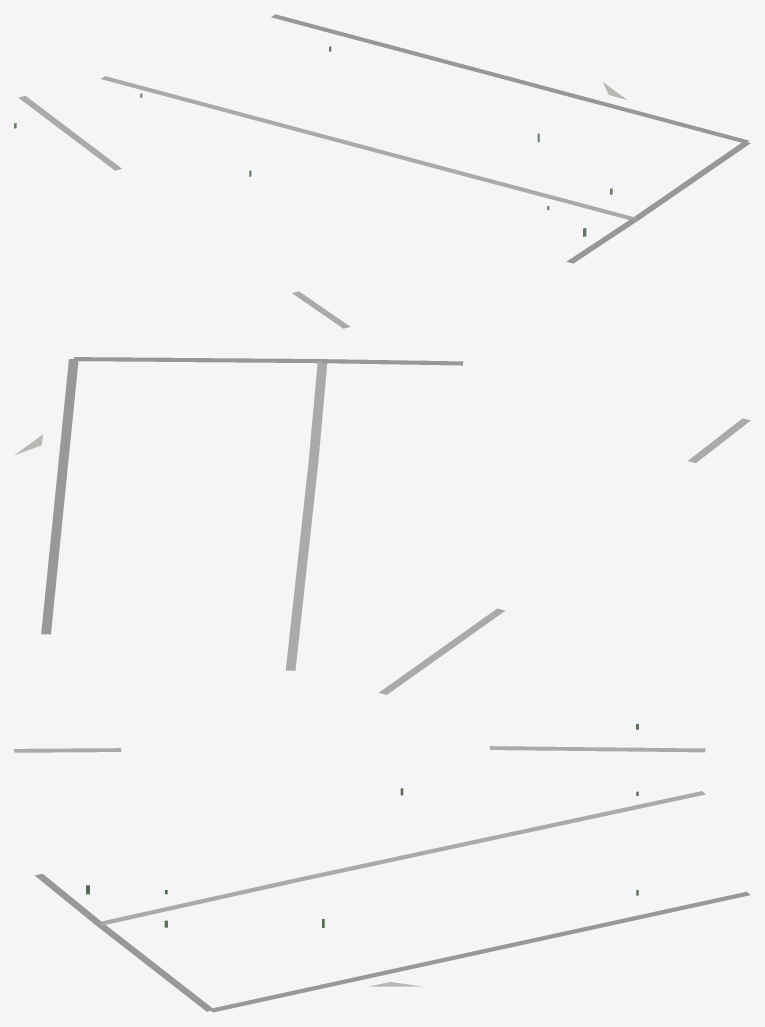
3 views of the same model, one above another, from view 1: azimuth 30°, elevation 25°; view 2: azimuth 150°, elevation 25°; view 3: azimuth 270°, elevation 25° (orthographic). The views are drawn at different scales.
Bounding box in the file's own units: 514 × 9.34 × 563.
